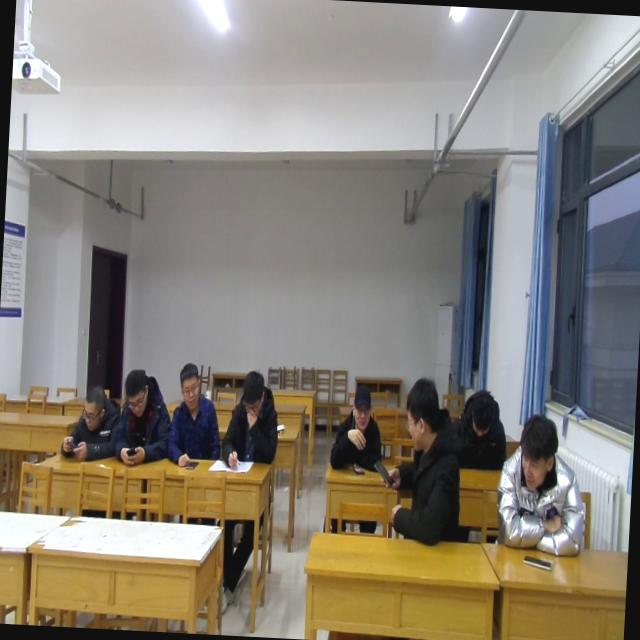bow: (490, 413, 592, 562), (60, 383, 122, 462)
down: (514, 411, 562, 496), (466, 386, 498, 438), (240, 368, 267, 424), (122, 364, 150, 416), (79, 382, 108, 432)
lookup: (348, 382, 377, 436), (175, 362, 202, 416)
sit: (385, 376, 467, 550), (325, 385, 386, 536), (220, 366, 282, 470), (110, 370, 174, 466), (166, 362, 224, 466), (450, 386, 512, 474)
